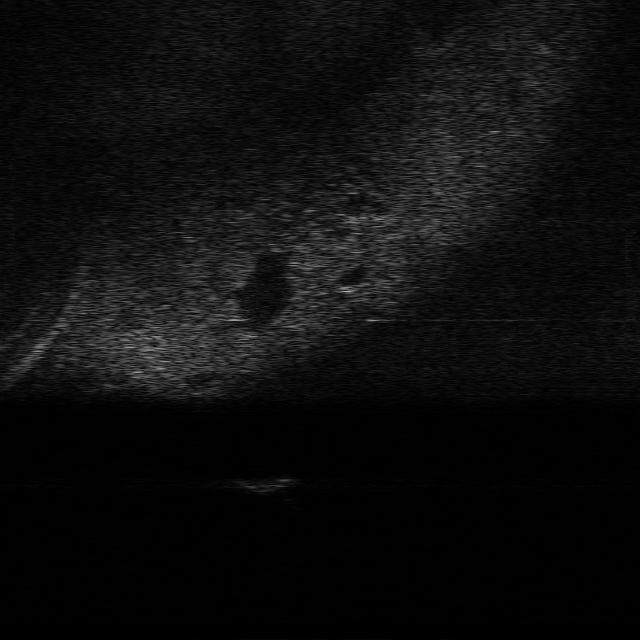cube: (232, 473, 298, 496)
